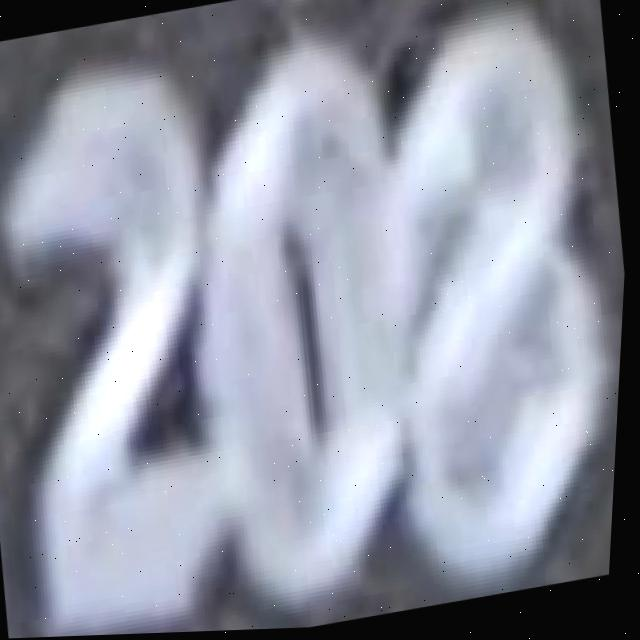character: (133, 11, 469, 634), (320, 0, 640, 610), (0, 33, 284, 640)
